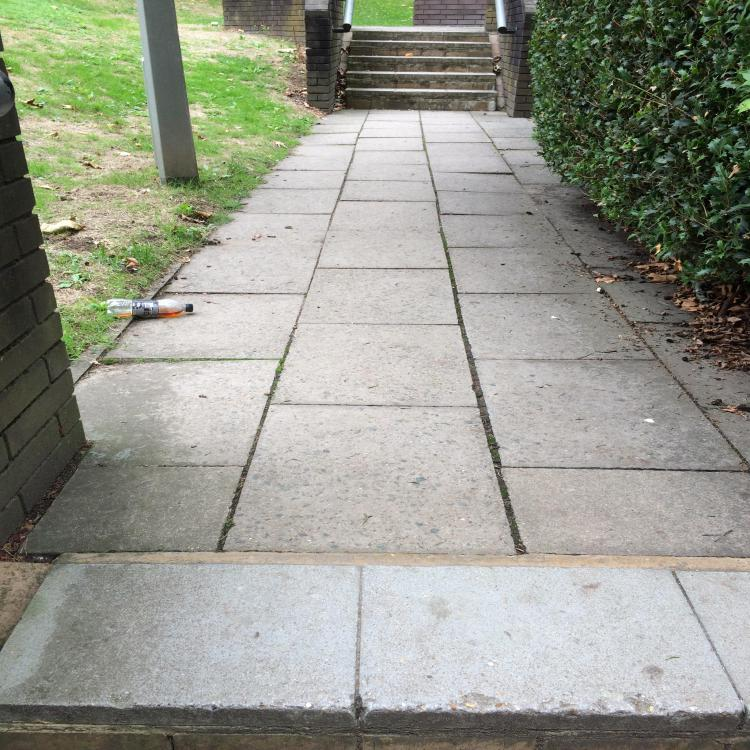Cigarette: (596, 288, 602, 293)
Clear plastic bottle: (106, 298, 193, 317)
Plastic bottle cap: (188, 304, 194, 312)
